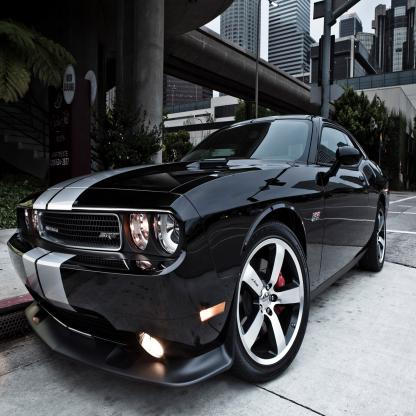Vehicle: (10, 116, 386, 388)
